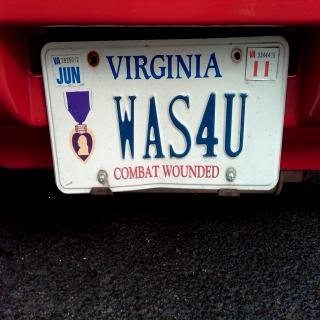license: (40, 32, 291, 199)
